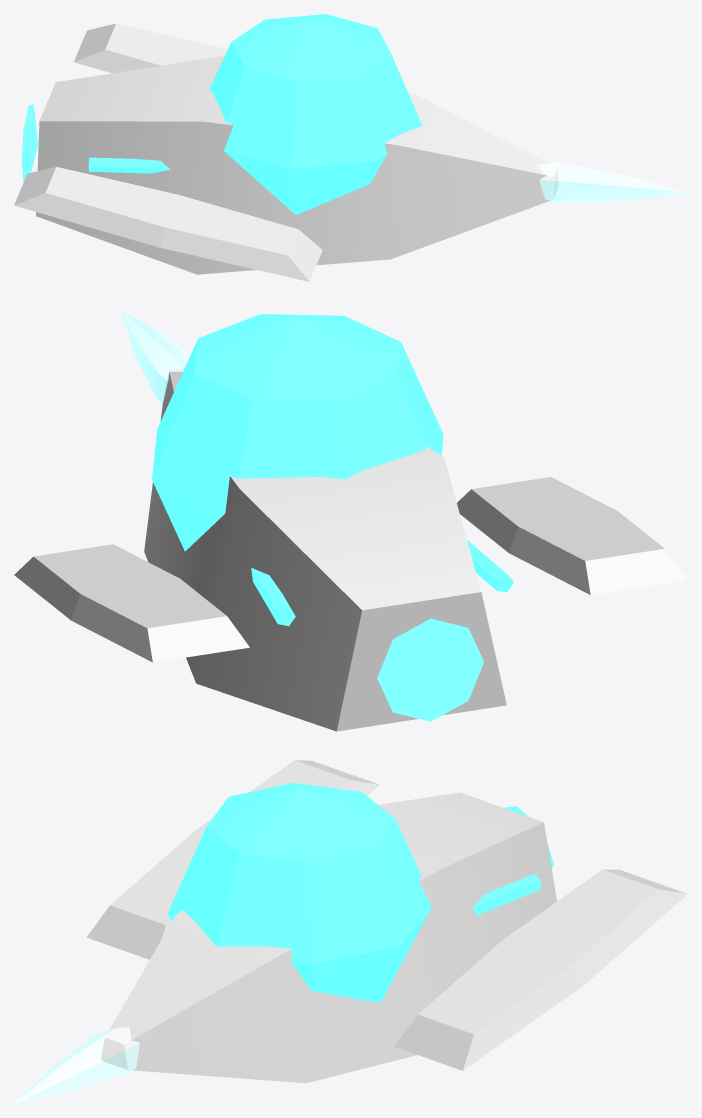
Rendered from leviathan.glb.
The picture shows the model from 3 angles, top to bottom: view 1: azimuth 30°, elevation 25°; view 2: azimuth 150°, elevation 25°; view 3: azimuth 270°, elevation 25°; orthographic projection. The views are drawn at different scales.
Visible parts, largest first — view 1: ledrone__le_blind, ledrone__le_halo, ledrone__le_blind2, ledrone__le_cristal, ledrone__le_conduit, ledrone__le_conduit_turq; view 2: ledrone__le_blind, ledrone__le_halo, ledrone__le_blind2, ledrone__le_conduit_turq, ledrone__le_cristal, ledrone__le_conduit; view 3: ledrone__le_blind, ledrone__le_halo, ledrone__le_blind2, ledrone__le_cristal, ledrone__le_conduit.
Part boxes in pixels (<box>): ledrone__le_blind: <box>36,56,558,274</box>; ledrone__le_halo: <box>209,14,422,214</box>; ledrone__le_blind2: <box>14,23,322,281</box>; ledrone__le_cristal: <box>536,162,686,203</box>; ledrone__le_conduit: <box>88,157,170,173</box>; ledrone__le_conduit_turq: <box>21,104,37,181</box>; ledrone__le_blind: <box>144,368,506,731</box>; ledrone__le_halo: <box>152,314,443,551</box>; ledrone__le_blind2: <box>14,477,687,662</box>; ledrone__le_conduit_turq: <box>377,618,483,721</box>; ledrone__le_cristal: <box>121,310,191,402</box>; ledrone__le_conduit: <box>251,540,513,626</box>; ledrone__le_blind: <box>101,792,556,1083</box>; ledrone__le_halo: <box>167,783,431,1002</box>; ledrone__le_blind2: <box>86,760,687,1070</box>; ledrone__le_cristal: <box>14,1027,139,1103</box>; ledrone__le_conduit: <box>472,874,540,915</box>.
Size of the model in its own units: 3.3 by 1.25 by 3.02.
